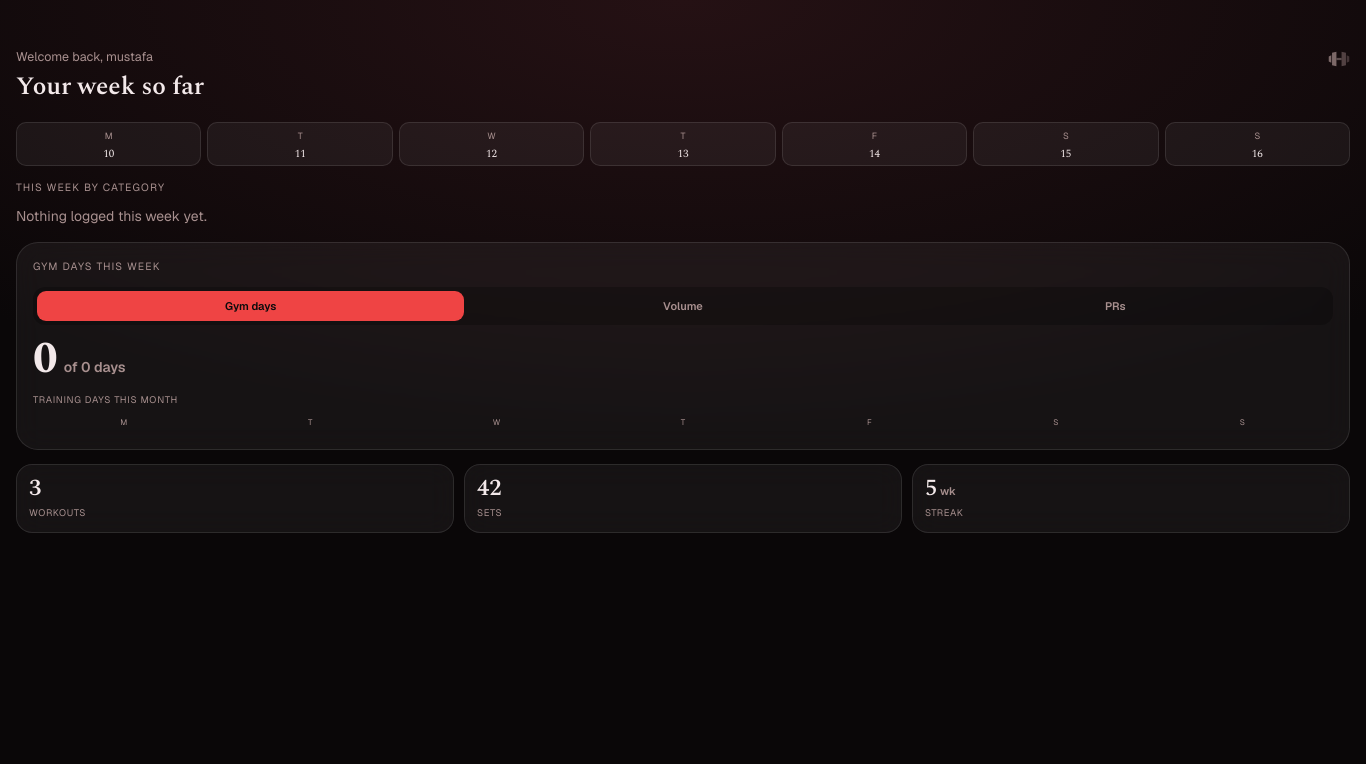
DashboardView planner gate › opens the sheet for the day that was tapped
expect the button "Log it" is not shown: met
Click the button with test id "day-2026-08-13" at (683, 144), box [590,122,776,166]
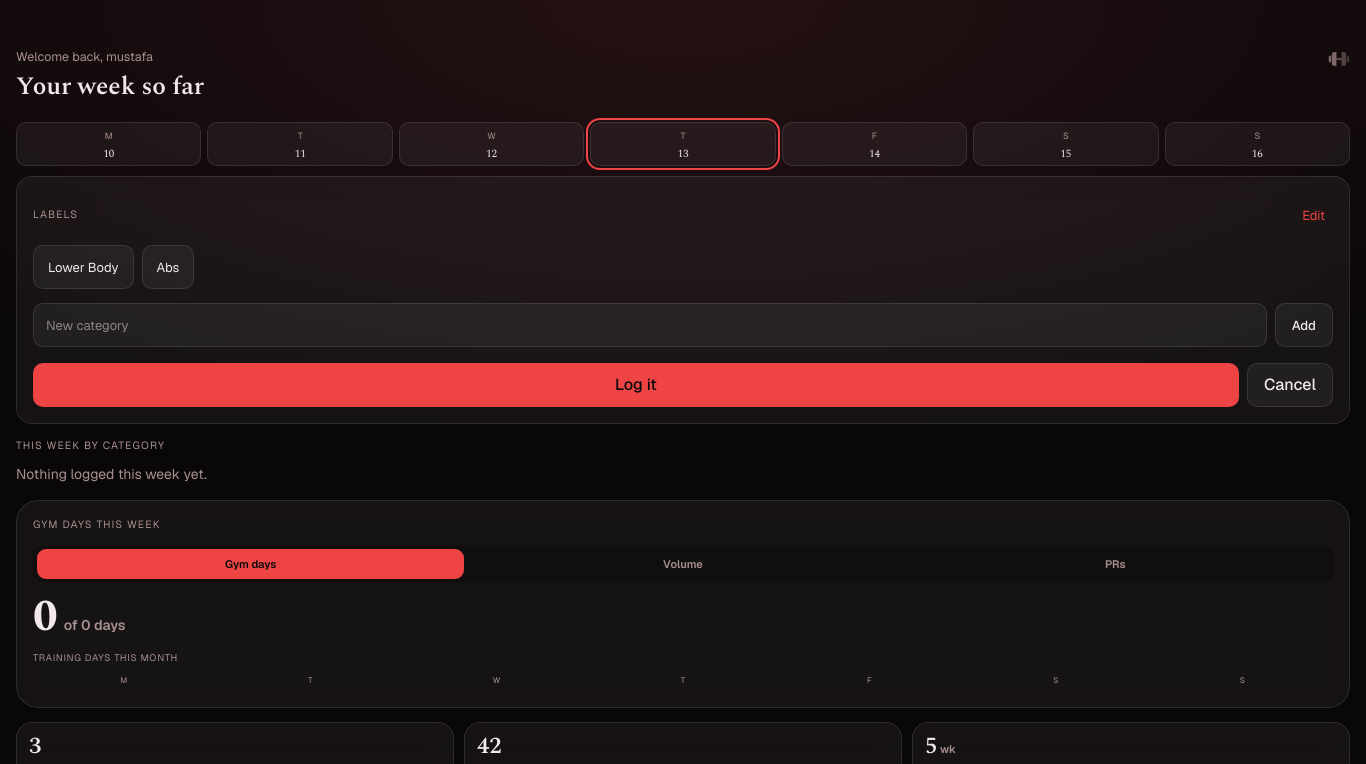
expect the button "Log it" is shown: met, box [33,363,1239,407]
